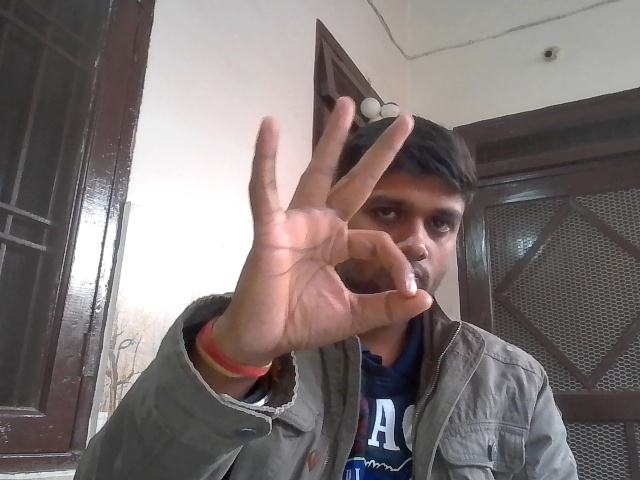Good: (223, 92, 439, 356)
